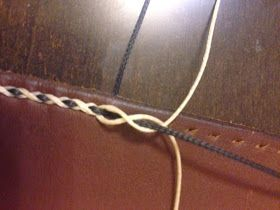cuero: (1, 70, 280, 210)
